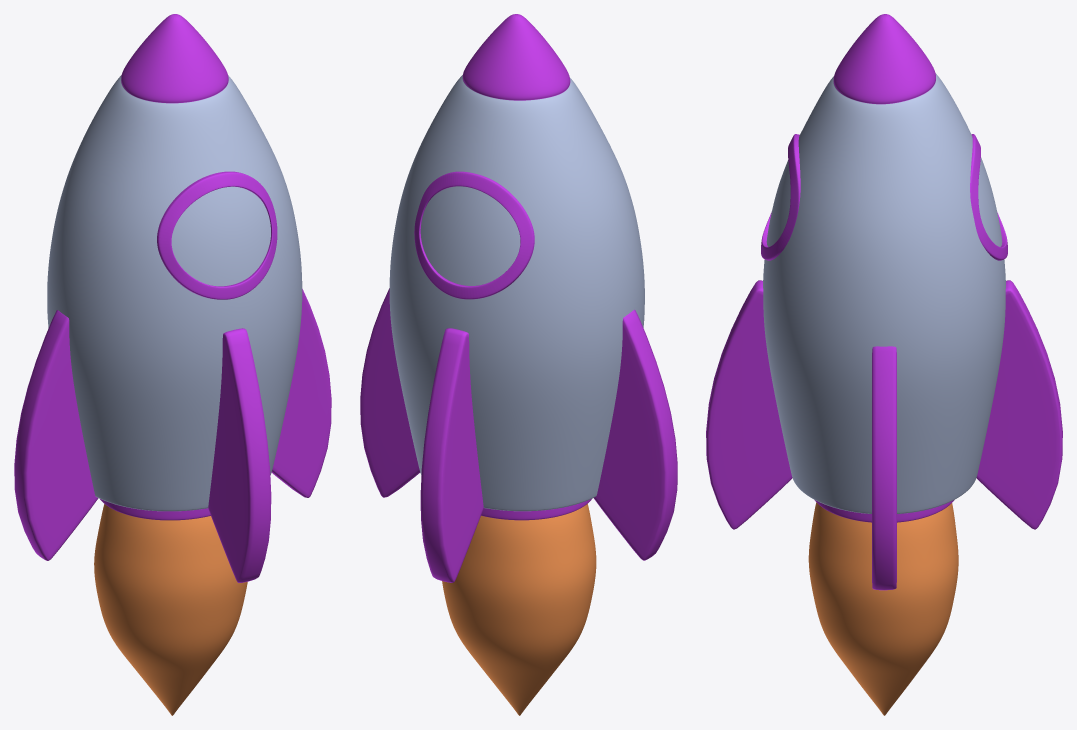
The model's file is space-ship-scaled.glb.
The picture shows the model from 3 angles, left to right: view 1: azimuth 30°, elevation 25°; view 2: azimuth 150°, elevation 25°; view 3: azimuth 270°, elevation 25°; orthographic projection.
Visible parts, largest first — view 1: Cylinder, Cylinder.002, Cube.001, Cube, Cylinder.001; view 2: Cylinder, Cylinder.002, Cube.001, Cube, Cylinder.001; view 3: Cylinder, Cube, Cylinder.002, Cube.001, Cylinder.001.
Boxes of the visible parts, x1=… form: Cylinder: x1=47, y1=14, x2=302, y2=520; Cylinder.002: x1=94, y1=504, x2=247, y2=715; Cube.001: x1=14, y1=289, x2=331, y2=560; Cube: x1=208, y1=328, x2=271, y2=582; Cylinder.001: x1=157, y1=171, x2=277, y2=299; Cylinder: x1=389, y1=14, x2=644, y2=520; Cylinder.002: x1=442, y1=504, x2=596, y2=715; Cube.001: x1=360, y1=288, x2=677, y2=560; Cube: x1=420, y1=328, x2=483, y2=582; Cylinder.001: x1=414, y1=171, x2=534, y2=299; Cylinder: x1=763, y1=14, x2=1005, y2=522; Cube: x1=706, y1=280, x2=1062, y2=529; Cylinder.002: x1=808, y1=502, x2=958, y2=715; Cube.001: x1=872, y1=346, x2=896, y2=590; Cylinder.001: x1=761, y1=134, x2=1007, y2=260.
Size of the model in its own units: 3.57 by 7.76 by 3.57.
